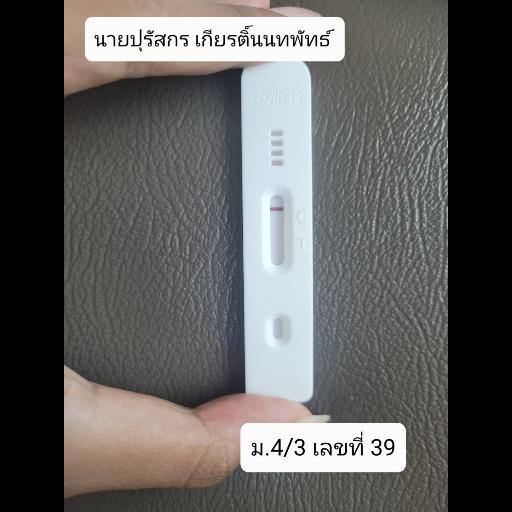Neg: (242, 62, 316, 400)
